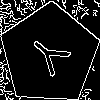Y: (24, 29, 79, 85)
